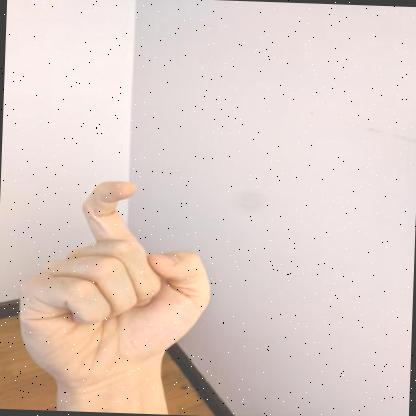X: (19, 181, 210, 389)
